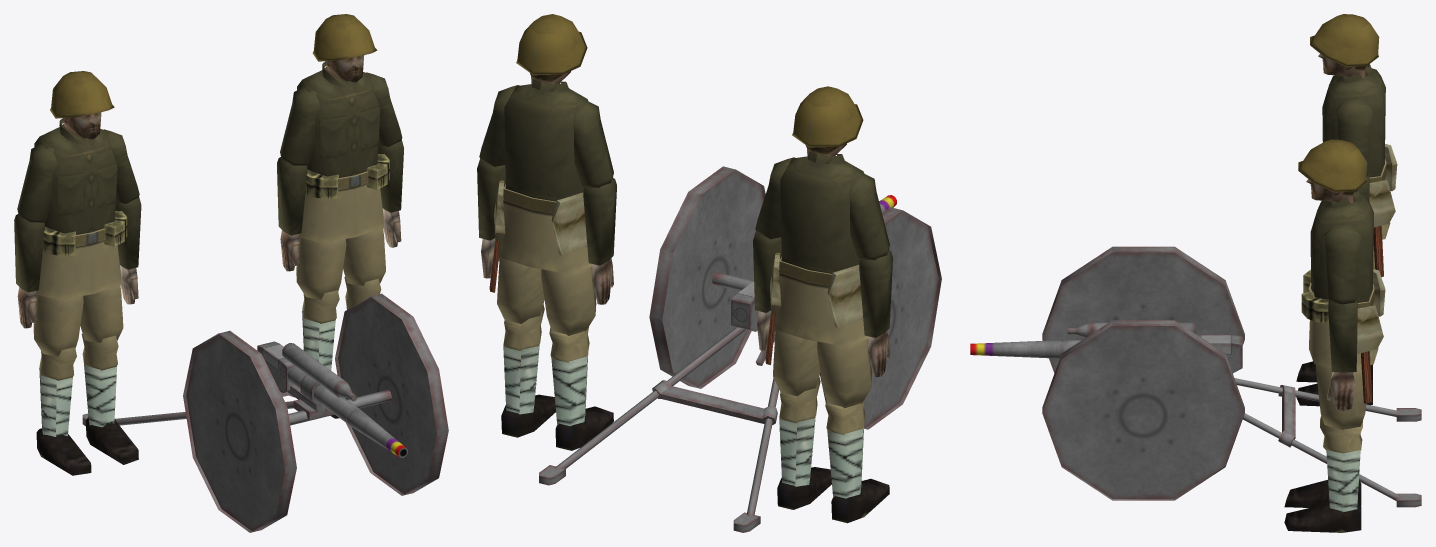
Rendered from esrarellano40mm.dae.
The picture shows the model from 3 angles, left to right: view 1: azimuth 30°, elevation 25°; view 2: azimuth 150°, elevation 25°; view 3: azimuth 270°, elevation 25°; orthographic projection. The views are drawn at different scales.
Parts seen in each view (by area): view 1: wheels, torso1, torso2, sleeve, head1, head2, lleg1, rleg1, rloarm2, rloarm1, rthigh2, rthigh1 (+14 smaller); view 2: wheels, torso2, torso1, carriage, head2, head1, lleg2, lleg1, rleg2, rleg1, rloarm2, rloarm1 (+15 smaller); view 3: wheels, torso2, torso1, head2, head1, carriage, lleg2, lloarm2, luparm2, lthigh2, lfoot2, luparm1 (+3 smaller).
Boxes of the visible parts, bbox=[...] form: wheels: bbox=[183, 293, 448, 532]; torso1: bbox=[34, 118, 127, 299]; torso2: bbox=[297, 61, 389, 242]; sleeve: bbox=[257, 341, 356, 412]; head1: bbox=[50, 71, 114, 139]; head2: bbox=[312, 14, 377, 82]; lleg1: bbox=[81, 334, 118, 427]; rleg1: bbox=[39, 347, 76, 436]; rloarm2: bbox=[277, 157, 307, 271]; rloarm1: bbox=[14, 214, 44, 328]; rthigh2: bbox=[296, 237, 346, 299]; rthigh1: bbox=[33, 294, 83, 356]; wheels: bbox=[649, 166, 941, 429]; torso2: bbox=[489, 78, 592, 292]; torso1: bbox=[765, 151, 868, 364]; carriage: bbox=[539, 327, 779, 532]; head2: bbox=[516, 14, 587, 84]; head1: bbox=[792, 86, 863, 157]; lleg2: bbox=[503, 304, 544, 414]; lleg1: bbox=[779, 377, 820, 486]; rleg2: bbox=[549, 327, 589, 426]; rleg1: bbox=[825, 399, 865, 498]; rloarm2: bbox=[583, 178, 616, 304]; rloarm1: bbox=[859, 250, 892, 376]; wheels: bbox=[1042, 246, 1244, 500]; torso2: bbox=[1301, 189, 1385, 403]; torso1: bbox=[1322, 64, 1397, 277]; head2: bbox=[1298, 139, 1367, 203]; head1: bbox=[1310, 14, 1379, 77]; carriage: bbox=[1234, 378, 1421, 507]; lleg2: bbox=[1320, 415, 1362, 512]; lloarm2: bbox=[1327, 299, 1357, 411]; luparm2: bbox=[1324, 224, 1361, 304]; lthigh2: bbox=[1316, 364, 1366, 430]; lfoot2: bbox=[1284, 503, 1361, 532]; luparm1: bbox=[1336, 99, 1372, 176].
Bounding box in the file's own units: 14.89 × 15.58 × 14.48.
